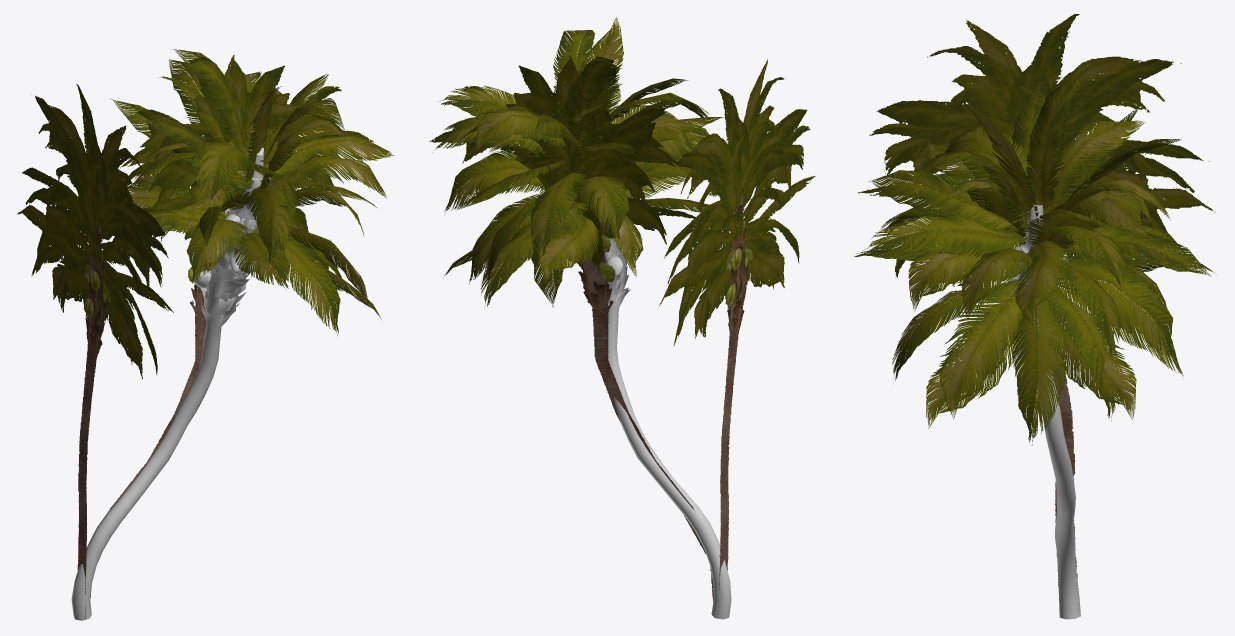
Rendered from Palm2.fbx.
3 renders of one model, left to right at view 1: azimuth 30°, elevation 25°; view 2: azimuth 150°, elevation 25°; view 3: azimuth 270°, elevation 25°, orthographic. The views are drawn at different scales.
Visible parts, largest first — view 1: LOD0, Billboard; view 2: Billboard, LOD0; view 3: LOD0, Billboard.
Part boxes in pixels (bbox=[...]): LOD0: bbox=[71, 49, 393, 620]; Billboard: bbox=[17, 55, 374, 618]; Billboard: bbox=[429, 55, 815, 617]; LOD0: bbox=[432, 17, 731, 619]; LOD0: bbox=[854, 65, 1214, 619]; Billboard: bbox=[858, 14, 1215, 586].
Size of what is drawn, in the model's own units: 636 by 1062 by 591.
